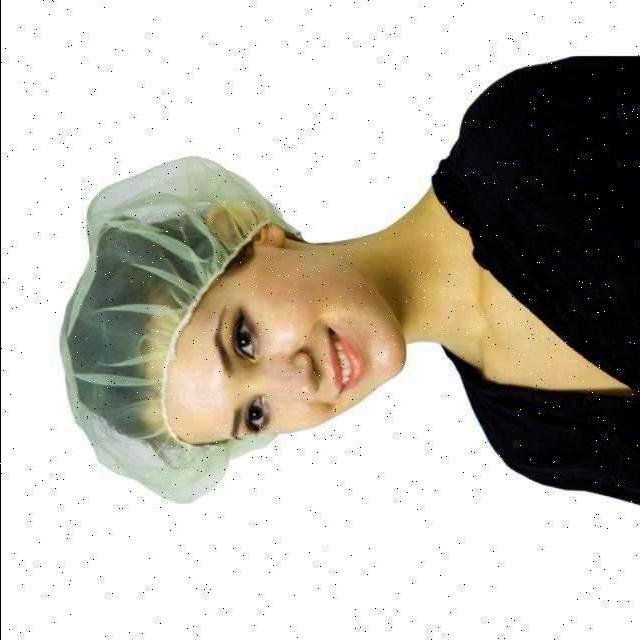no_hairnet: (283, 261, 381, 428)
